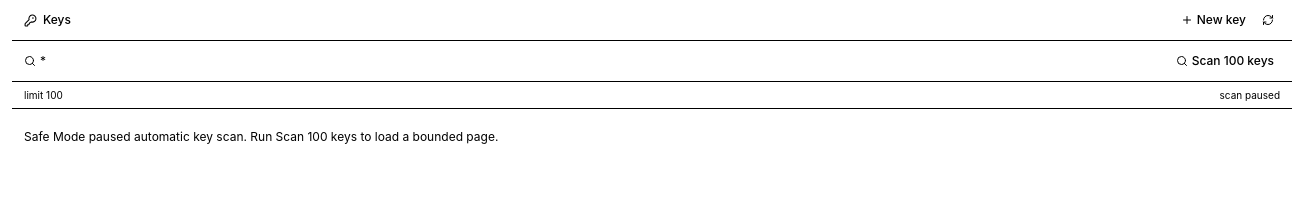
KvSidebar › exposes SCAN cursor state and appends the next page without blocking the first page
Click the button "Scan 100 keys": {"x": 1225, "y": 61} [1170, 49, 1280, 73]
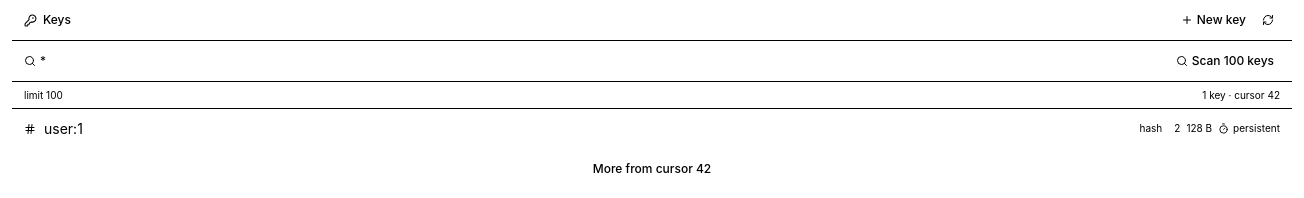
Check: the element with test id "redis-scan-status" shows "limit 100", box [24, 89, 63, 101]
Check: the text "user:1" is shown, box [44, 120, 83, 137]
Check: the element with test id "redis-scan-status" shows "cursor 42", box [1202, 89, 1280, 101]
Click the button "More from cursor 42": {"x": 652, "y": 169} [24, 157, 1280, 181]
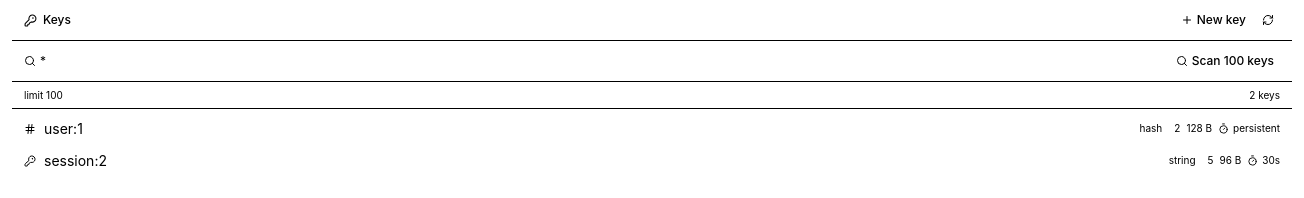
Check: the text "user:1" is shown, box [44, 120, 83, 137]
Check: the text "session:2" is shown, box [44, 152, 107, 169]
